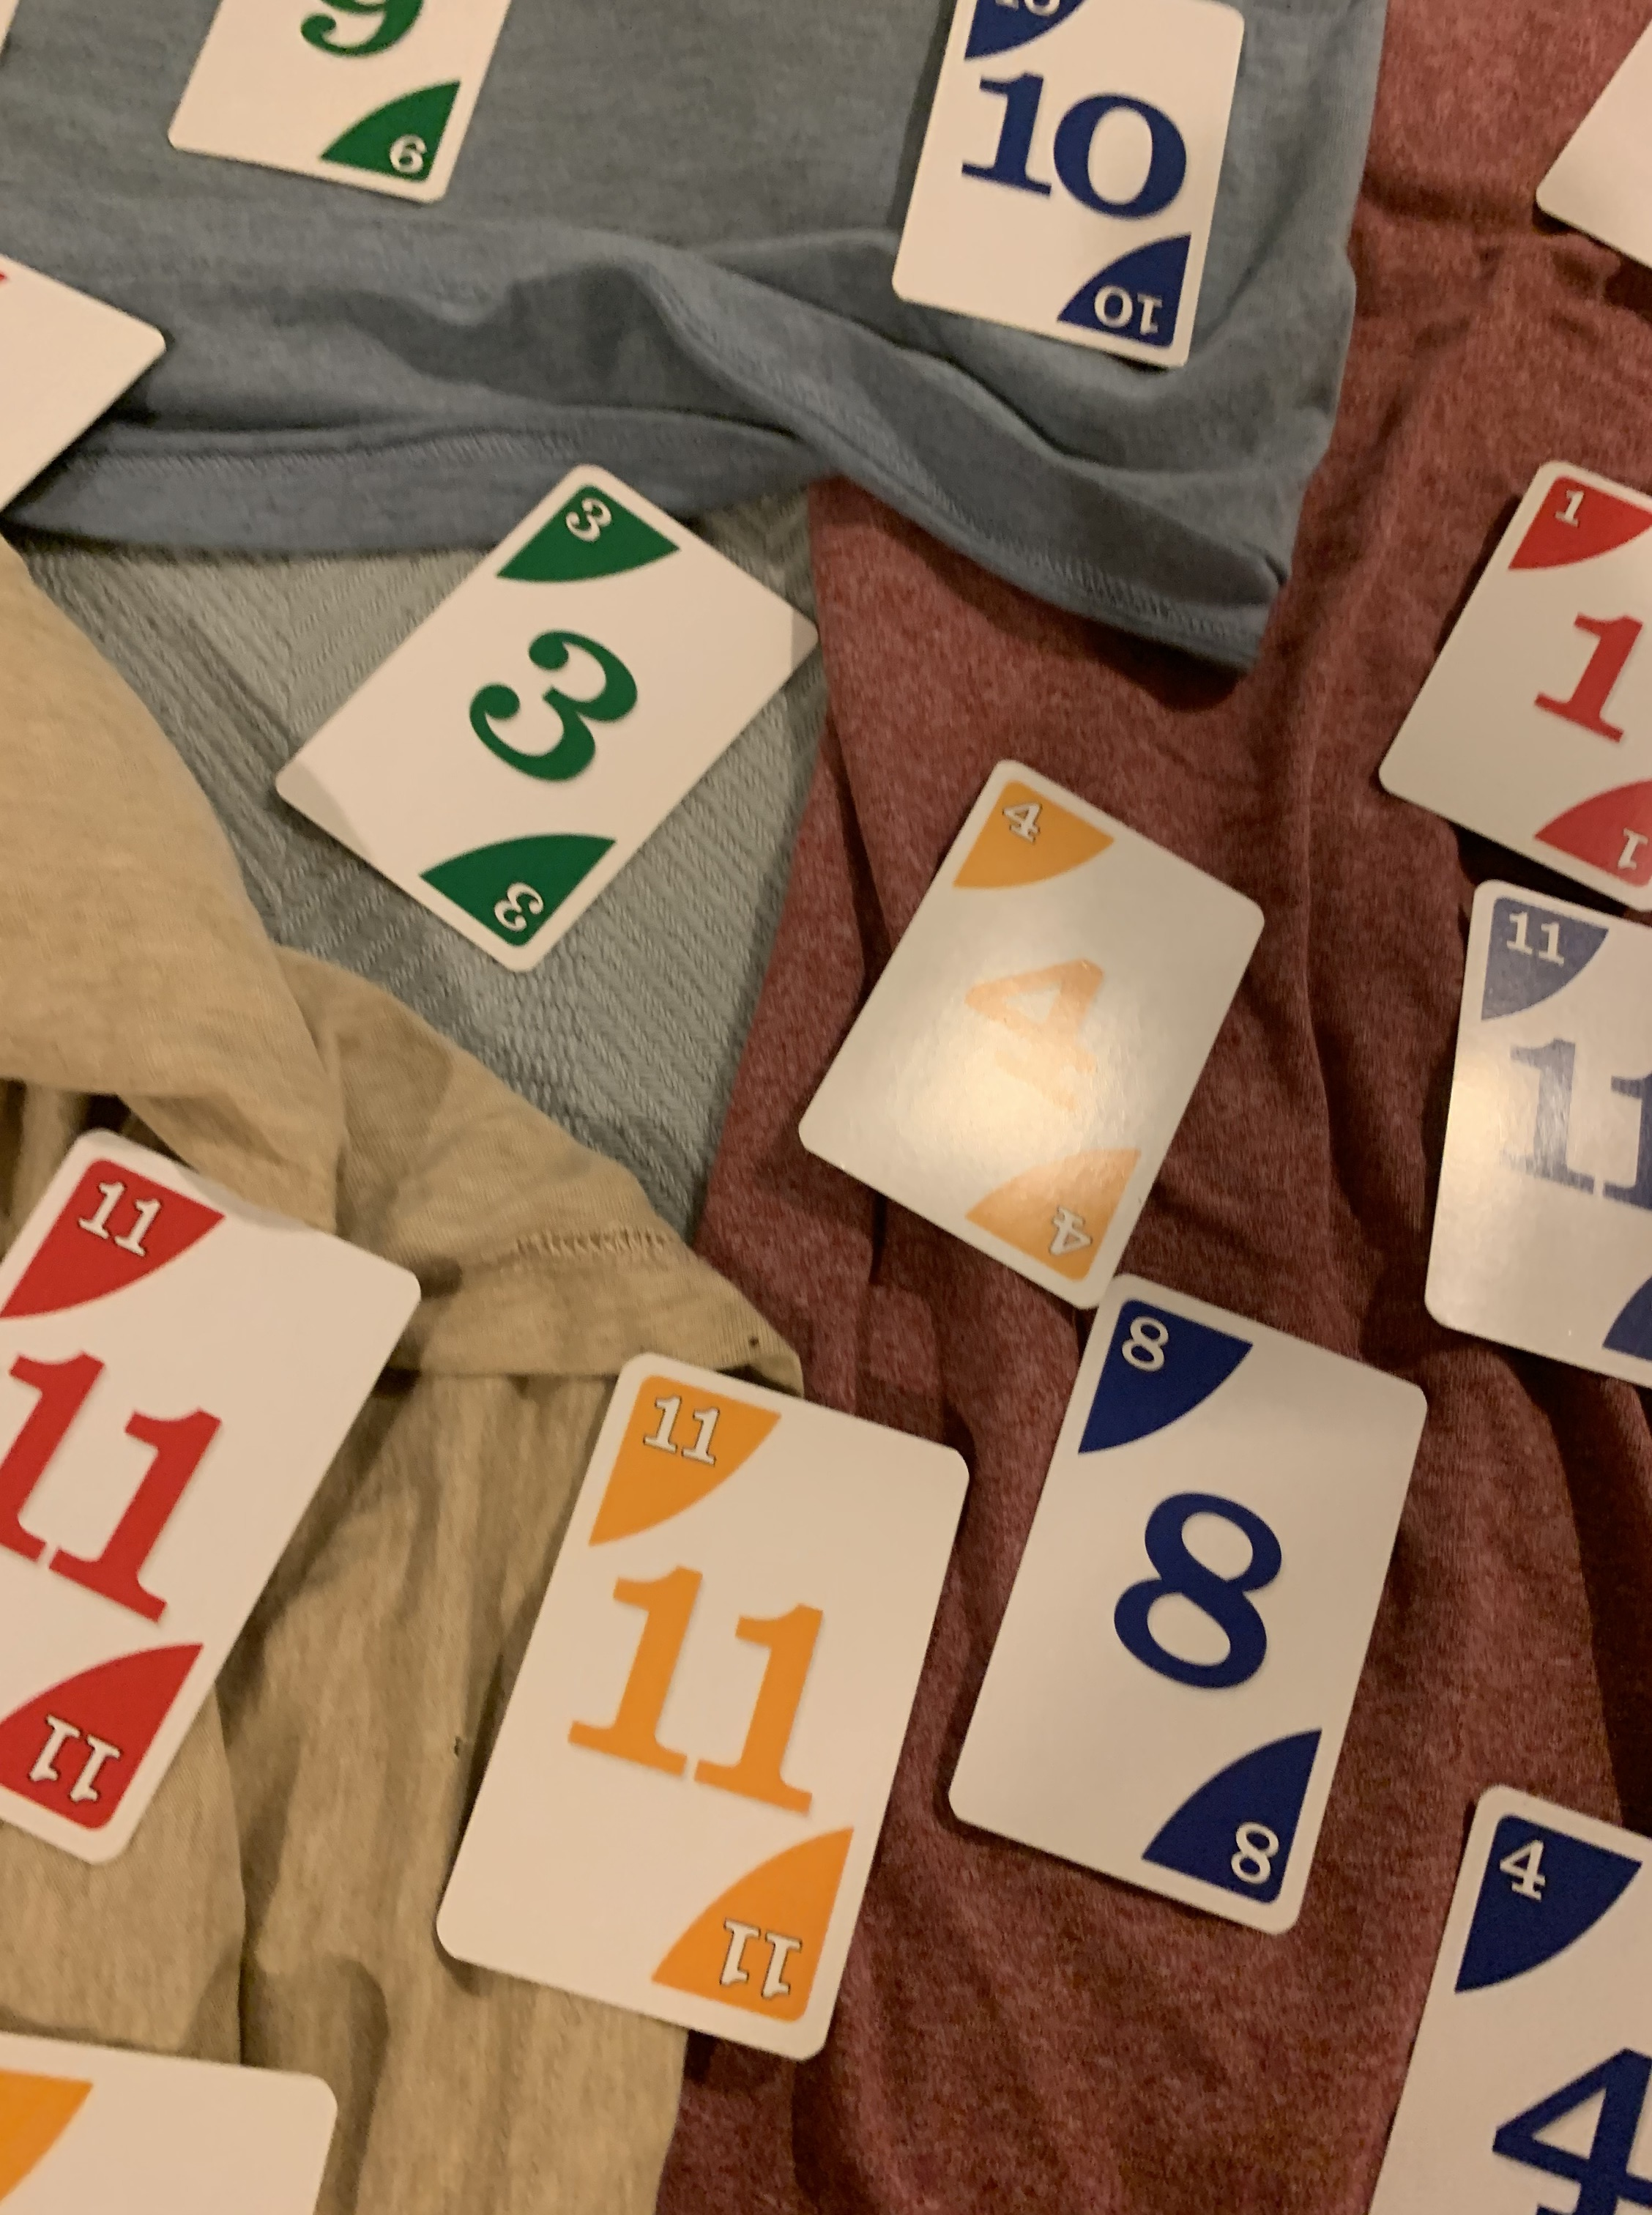eight: (946, 1276, 1444, 1951)
eleven: (413, 1363, 984, 2081), (0, 1113, 429, 1871), (1390, 870, 1652, 1411)
four: (777, 743, 1279, 1323)
one: (1347, 457, 1652, 915)
ten: (887, 0, 1260, 380)
three: (267, 455, 823, 991)
